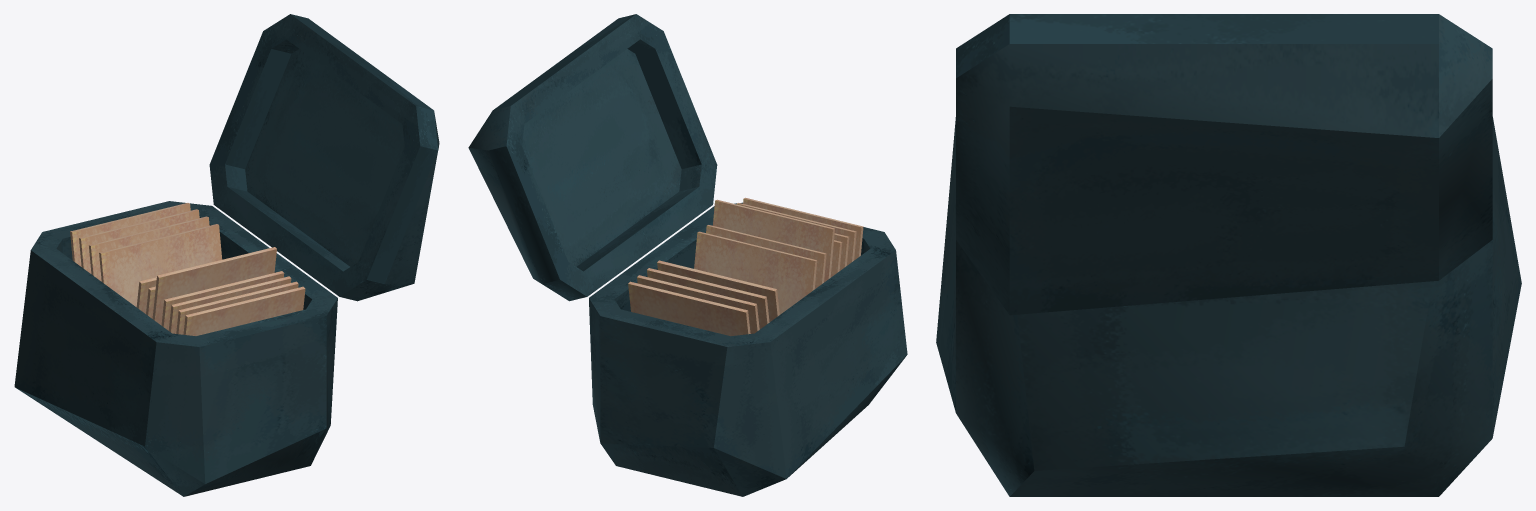
File: RecipeBox_UV.fbx
3 renders of one model, left to right at view 1: azimuth 30°, elevation 25°; view 2: azimuth 150°, elevation 25°; view 3: azimuth 270°, elevation 25°, orthographic. The views are drawn at different scales.
Visible parts, largest first — view 1: box.001, close, Cube_9.001, gefilte_recipe, Cube_2.001, Cube_10.001, Cube_11.001, Cube_12.001, Cube_4.001, Cube_5.001, Cube_3.001; view 2: box.001, close, Cube_8.001, Cube_12.001, gefilte_recipe, Cube_9.001, Cube_10.001, Cube_7.001, Cube_11.001, Cube_2.001, Cube_3.001; view 3: close, box.001.
Boxes of the visible parts, <box> form: box.001: <box>14,201,337,496</box>; close: <box>209,14,439,301</box>; Cube_9.001: <box>99,224,222,306</box>; gefilte_recipe: <box>152,247,276,325</box>; Cube_2.001: <box>183,286,305,335</box>; Cube_10.001: <box>89,216,209,281</box>; Cube_11.001: <box>79,209,199,273</box>; Cube_12.001: <box>70,203,190,266</box>; Cube_4.001: <box>168,276,291,333</box>; Cube_5.001: <box>161,271,284,330</box>; Cube_3.001: <box>176,281,298,334</box>; box.001: <box>589,202,907,496</box>; close: <box>468,14,717,301</box>; Cube_8.001: <box>694,231,817,314</box>; Cube_12.001: <box>628,281,750,336</box>; gefilte_recipe: <box>713,199,834,282</box>; Cube_9.001: <box>657,260,779,321</box>; Cube_10.001: <box>647,268,769,329</box>; Cube_7.001: <box>706,225,826,288</box>; Cube_11.001: <box>637,275,759,333</box>; Cube_2.001: <box>743,197,863,260</box>; Cube_3.001: <box>736,203,856,265</box>; close: <box>956,14,1492,315</box>; box.001: <box>936,117,1521,496</box>.
Bounding box in the file's own units: 35.07 × 35.2 × 32.74.
